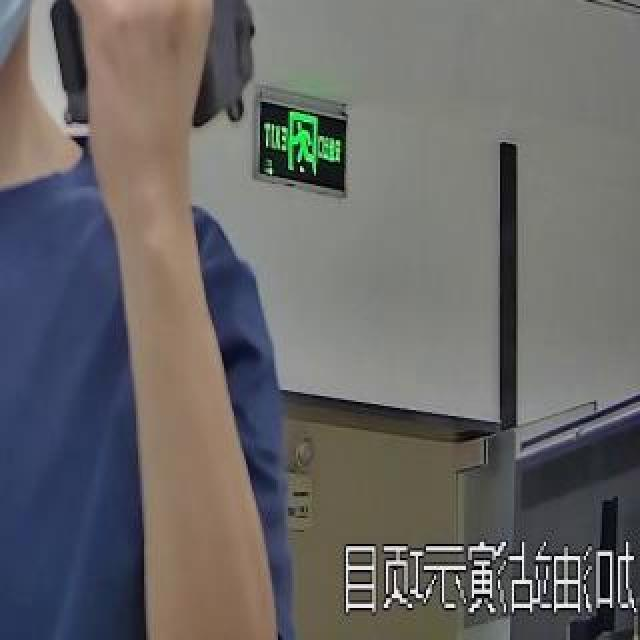Guns: (40, 0, 290, 150)
